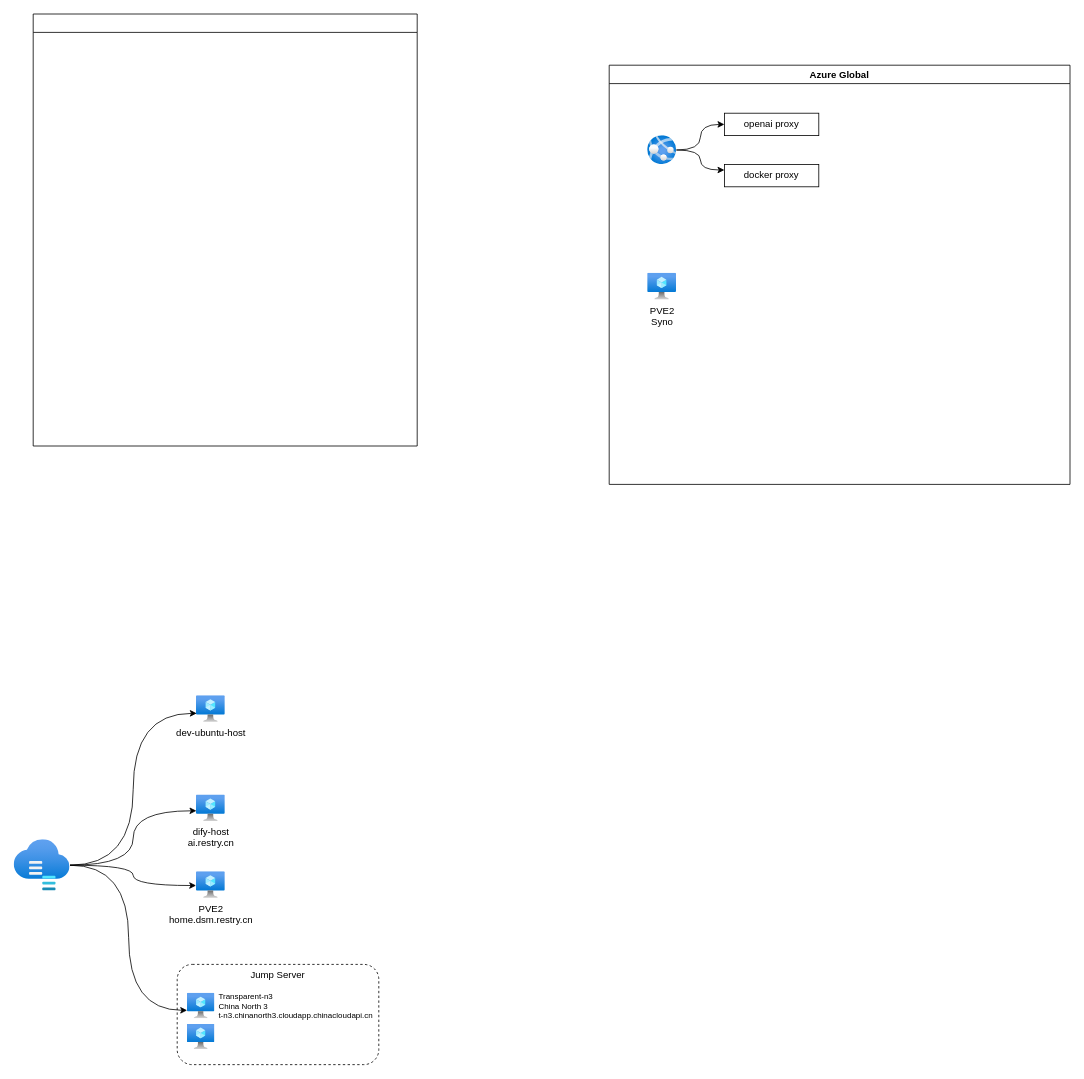
The diagram is 1084 pixels wide and 1079 high, and some of its shapes have lost their labels. Each missing label, with the centre of its shape:
A zure China: point (42, 864)
ai-gateway: point (661, 149)
Azure China: point (224, 229)
TP-03 China East 2 tp-03.chinaeast2.cloudapp.chinacloudapi.cn: point (200, 1036)
